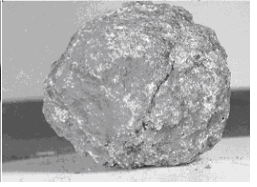Basalt: (29, 0, 236, 167)
